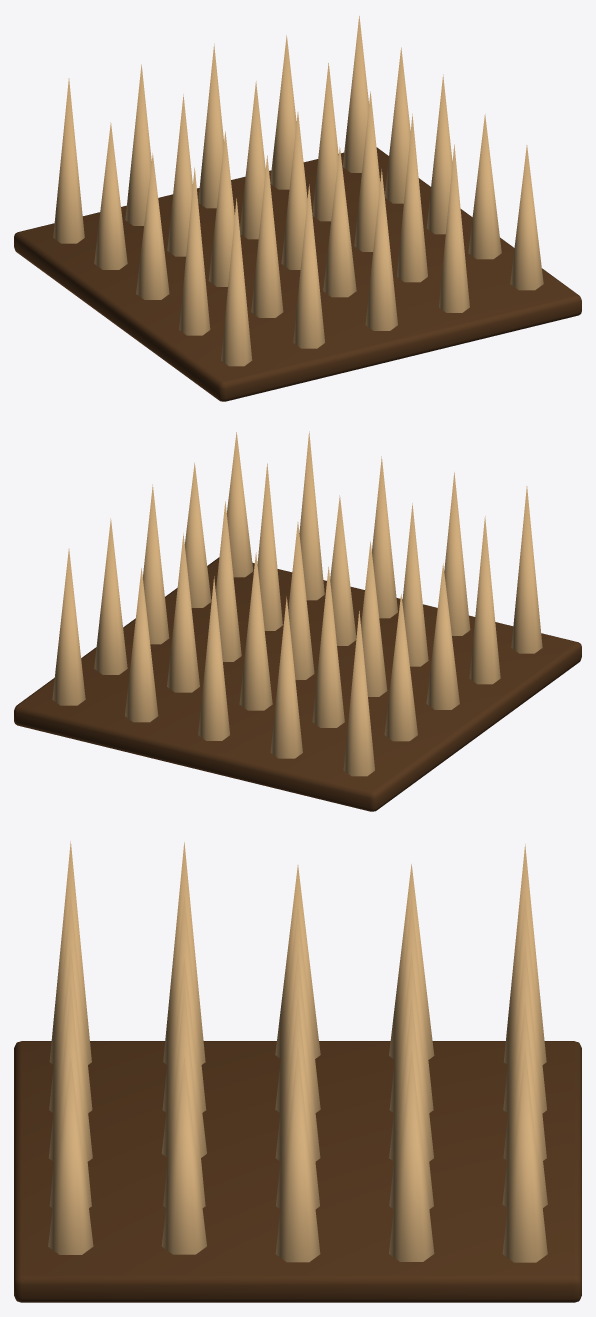
File: spikes.glb
3 renders of one model, top to bottom at view 1: azimuth 30°, elevation 25°; view 2: azimuth 150°, elevation 25°; view 3: azimuth 270°, elevation 25°, orthographic. The views are drawn at different scales.
Parts seen in each view (by area): view 1: spikes; view 2: spikes; view 3: spikes.
Boxes of the visible parts, <box> form: spikes: <box>14,16,581,401</box>; spikes: <box>14,431,581,811</box>; spikes: <box>14,841,581,1302</box>.
Bounding box in the file's own units: 1.5 × 0.7296 × 1.5.
